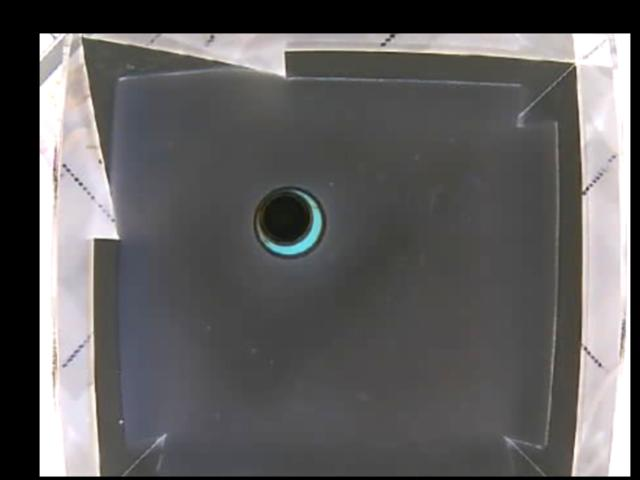Cup: (250, 182, 327, 263)
